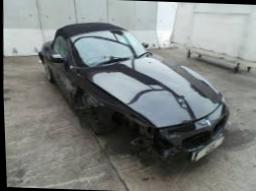Bumper: (143, 116, 226, 164)
Fender: (69, 69, 156, 157)
